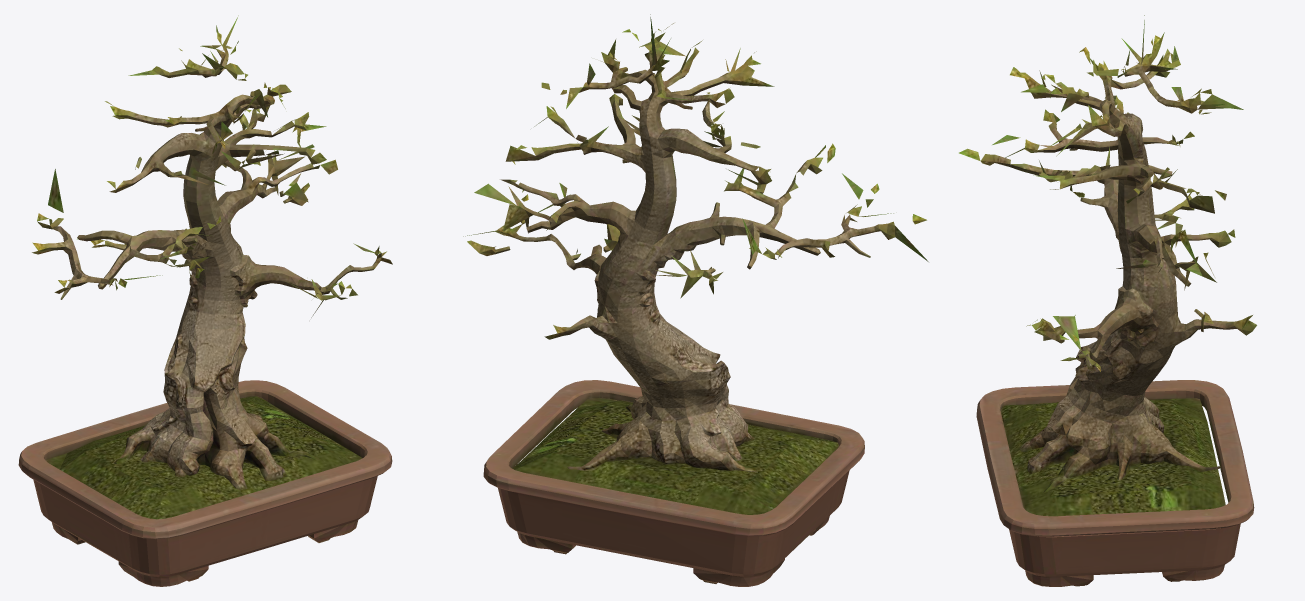
Rendered from wood.glb.
3 renders of one model, left to right at view 1: azimuth 30°, elevation 25°; view 2: azimuth 150°, elevation 25°; view 3: azimuth 270°, elevation 25°, orthographic. The views are drawn at different scales.
Parts seen in each view (by area): view 1: geometry_0; view 2: geometry_0; view 3: geometry_0.
Boxes of the visible parts, x1,y1,x2,y2 form: geometry_0: [18, 15, 392, 586]; geometry_0: [463, 14, 928, 586]; geometry_0: [959, 15, 1256, 586].
Size of the model in its own units: 0.3545 by 0.393 by 0.2277.
1 material, 1 textured.
